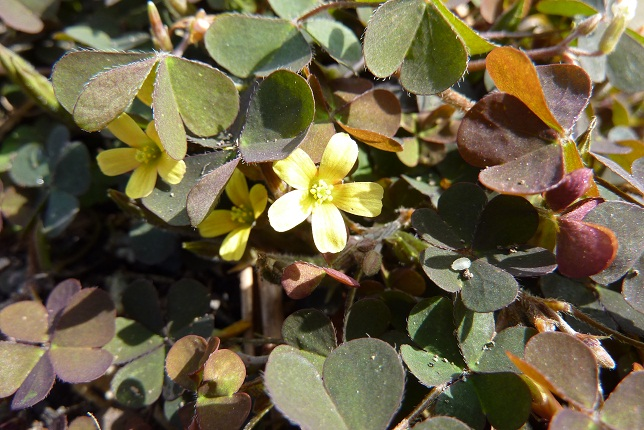oxalis: (76, 8, 623, 430)
